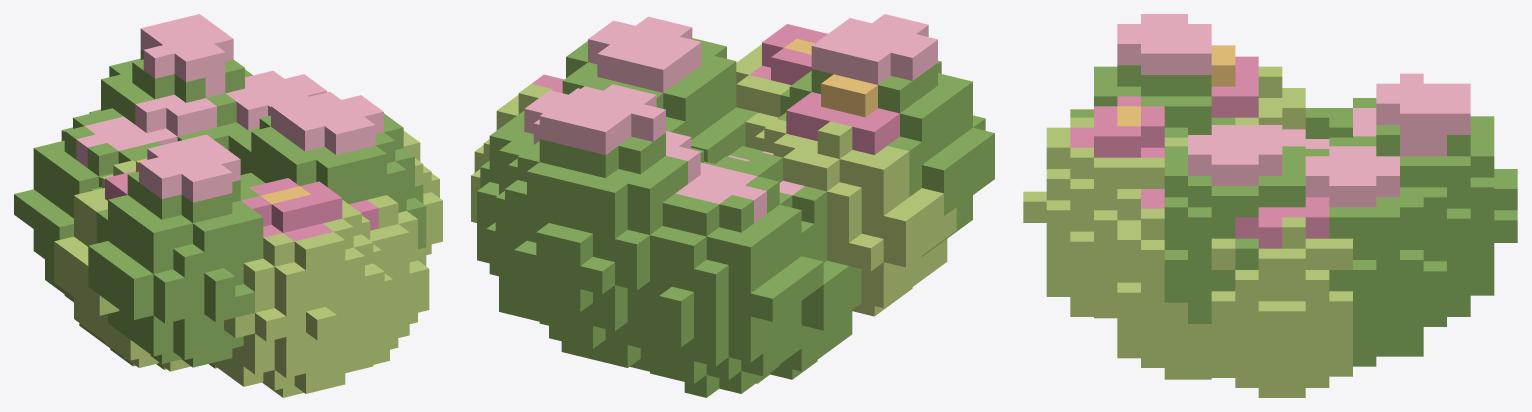
The model's file is sakura_petal_shrub.glb.
3 views of the same model, side by side, from view 1: azimuth 30°, elevation 25°; view 2: azimuth 150°, elevation 25°; view 3: azimuth 270°, elevation 25° (orthographic). The views are drawn at different scales.
Size of the model in its own units: 0.7917 by 0.5 by 0.875.
